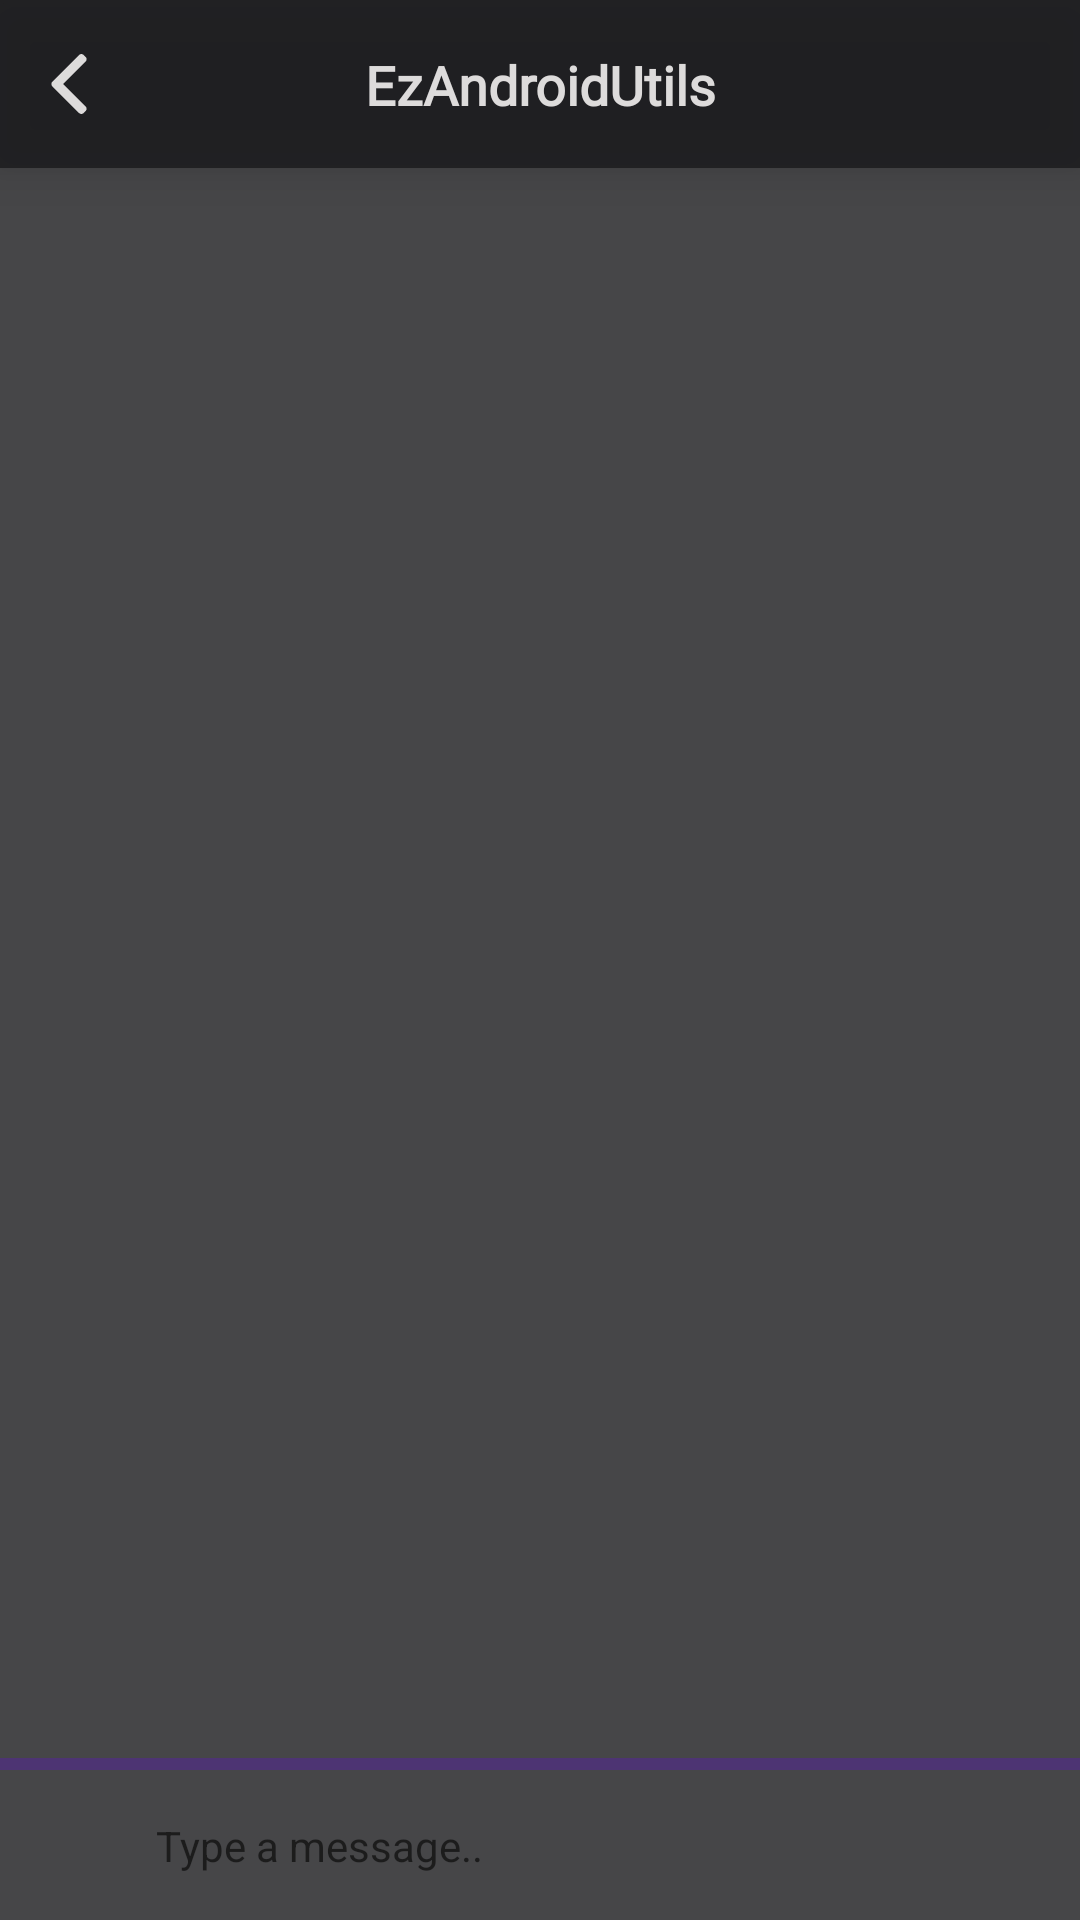

Named icons in this screenshot (1080px×1920px) and their centers, [x,y]:
left arrow: [69,84]
